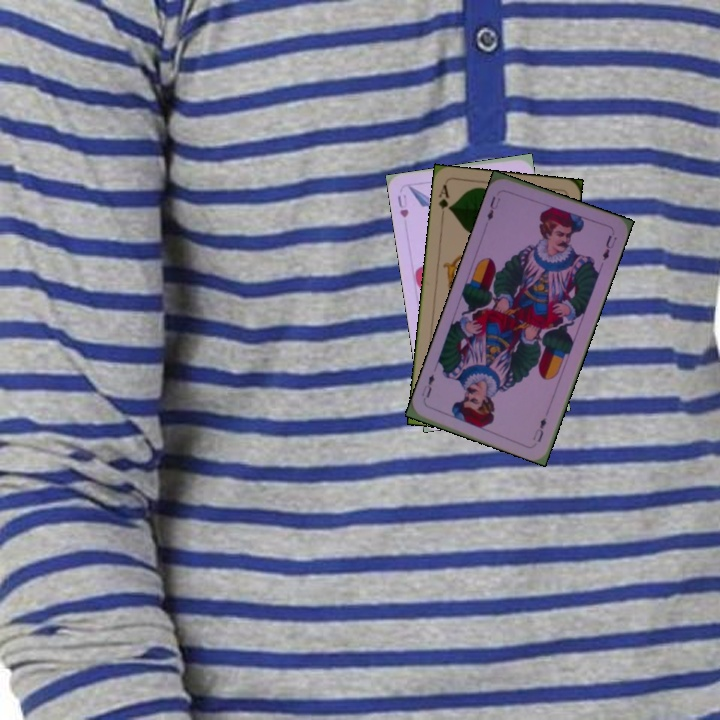EU: (483, 192, 503, 223), (529, 414, 549, 445)
GA: (434, 181, 453, 221)
HU: (393, 190, 411, 220)
